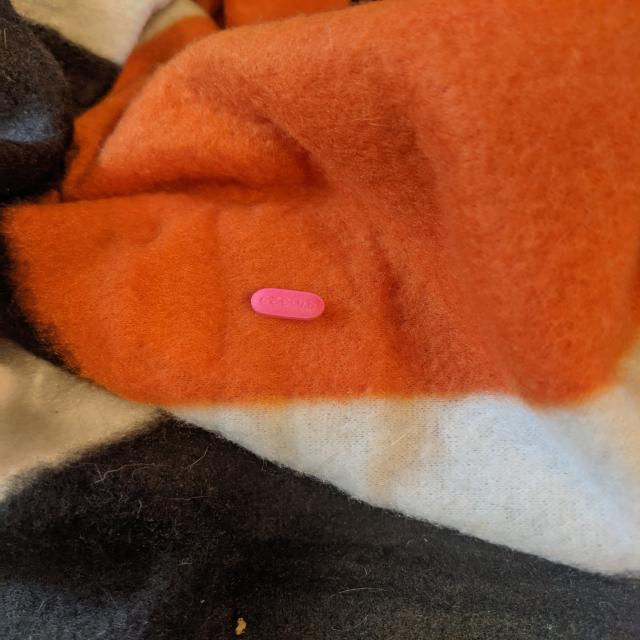non-organic waste: (250, 287, 326, 321)
